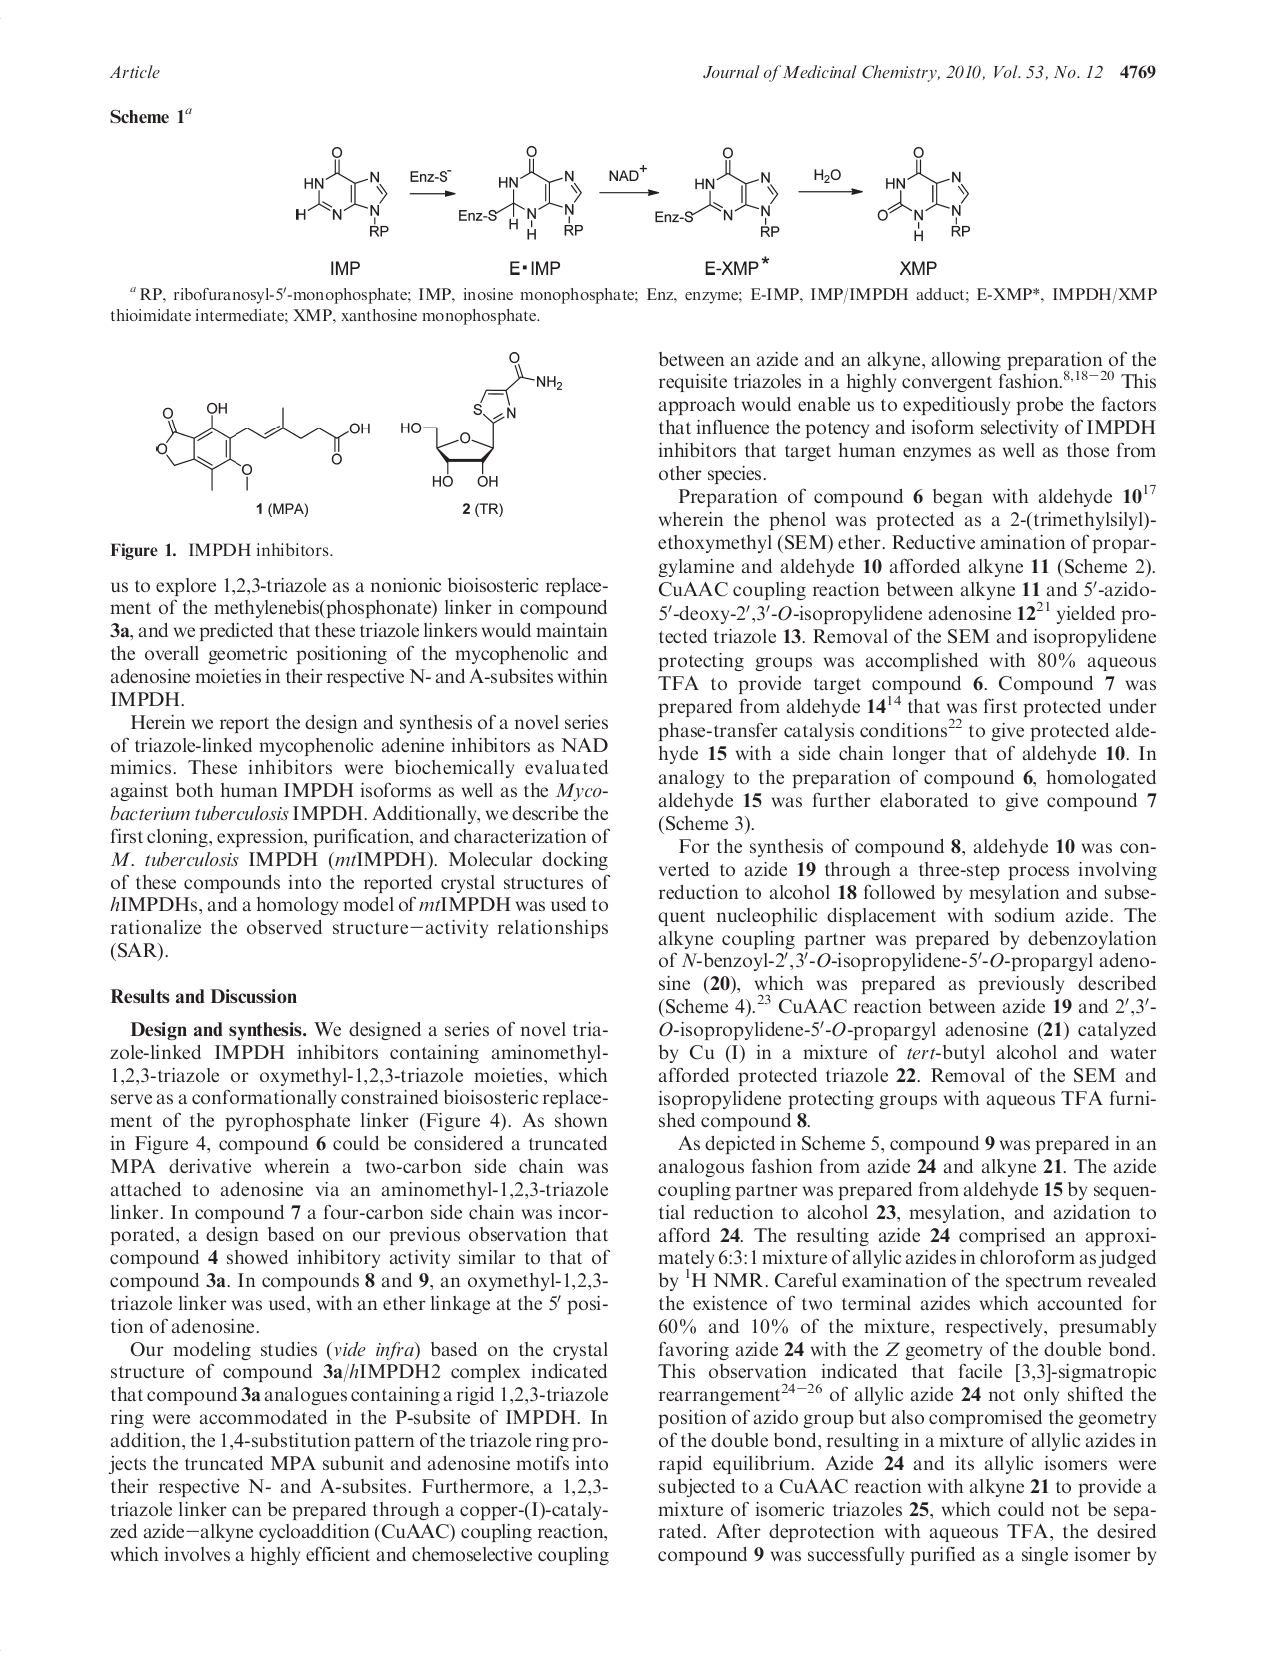exist_molecular: (156, 343, 568, 493), (456, 146, 586, 245), (653, 152, 779, 239), (876, 144, 973, 247), (297, 144, 394, 239)
